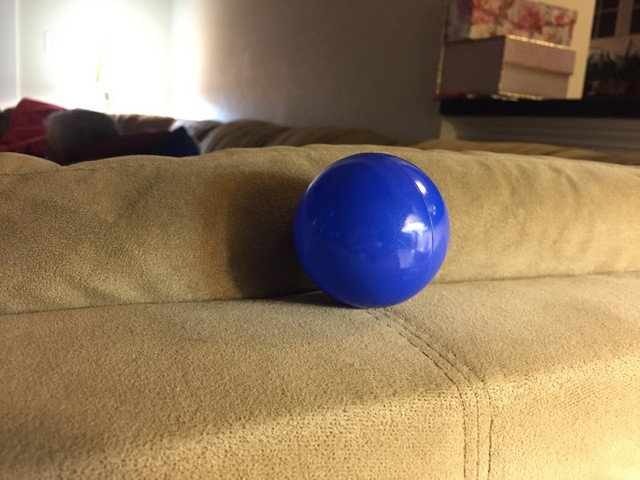Ball: (290, 153, 450, 307)
